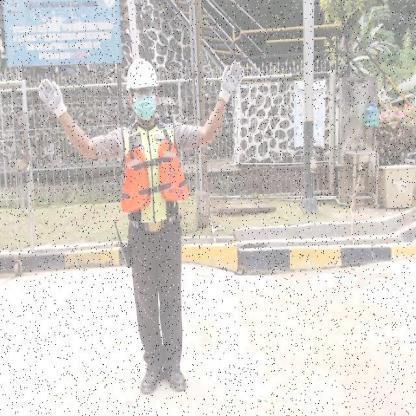boots: (139, 362, 163, 396), (164, 364, 188, 393)
gloves: (36, 76, 70, 120), (218, 58, 243, 105)
goggles: (132, 89, 156, 98)
helmet: (126, 58, 158, 89)
mask: (132, 97, 157, 123)
vest: (118, 138, 190, 214)
